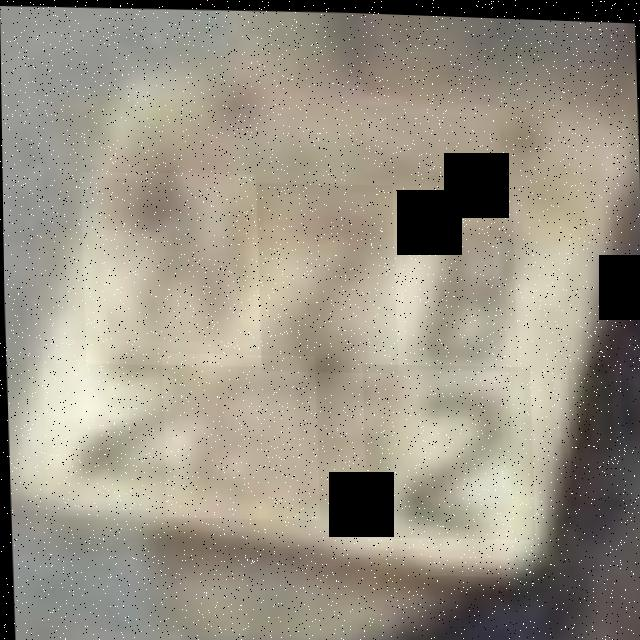2: (40, 335, 218, 519), (361, 358, 534, 539)
8: (161, 349, 318, 520)
B: (400, 184, 517, 369)
N: (79, 167, 260, 367)
Z: (255, 178, 397, 372)
